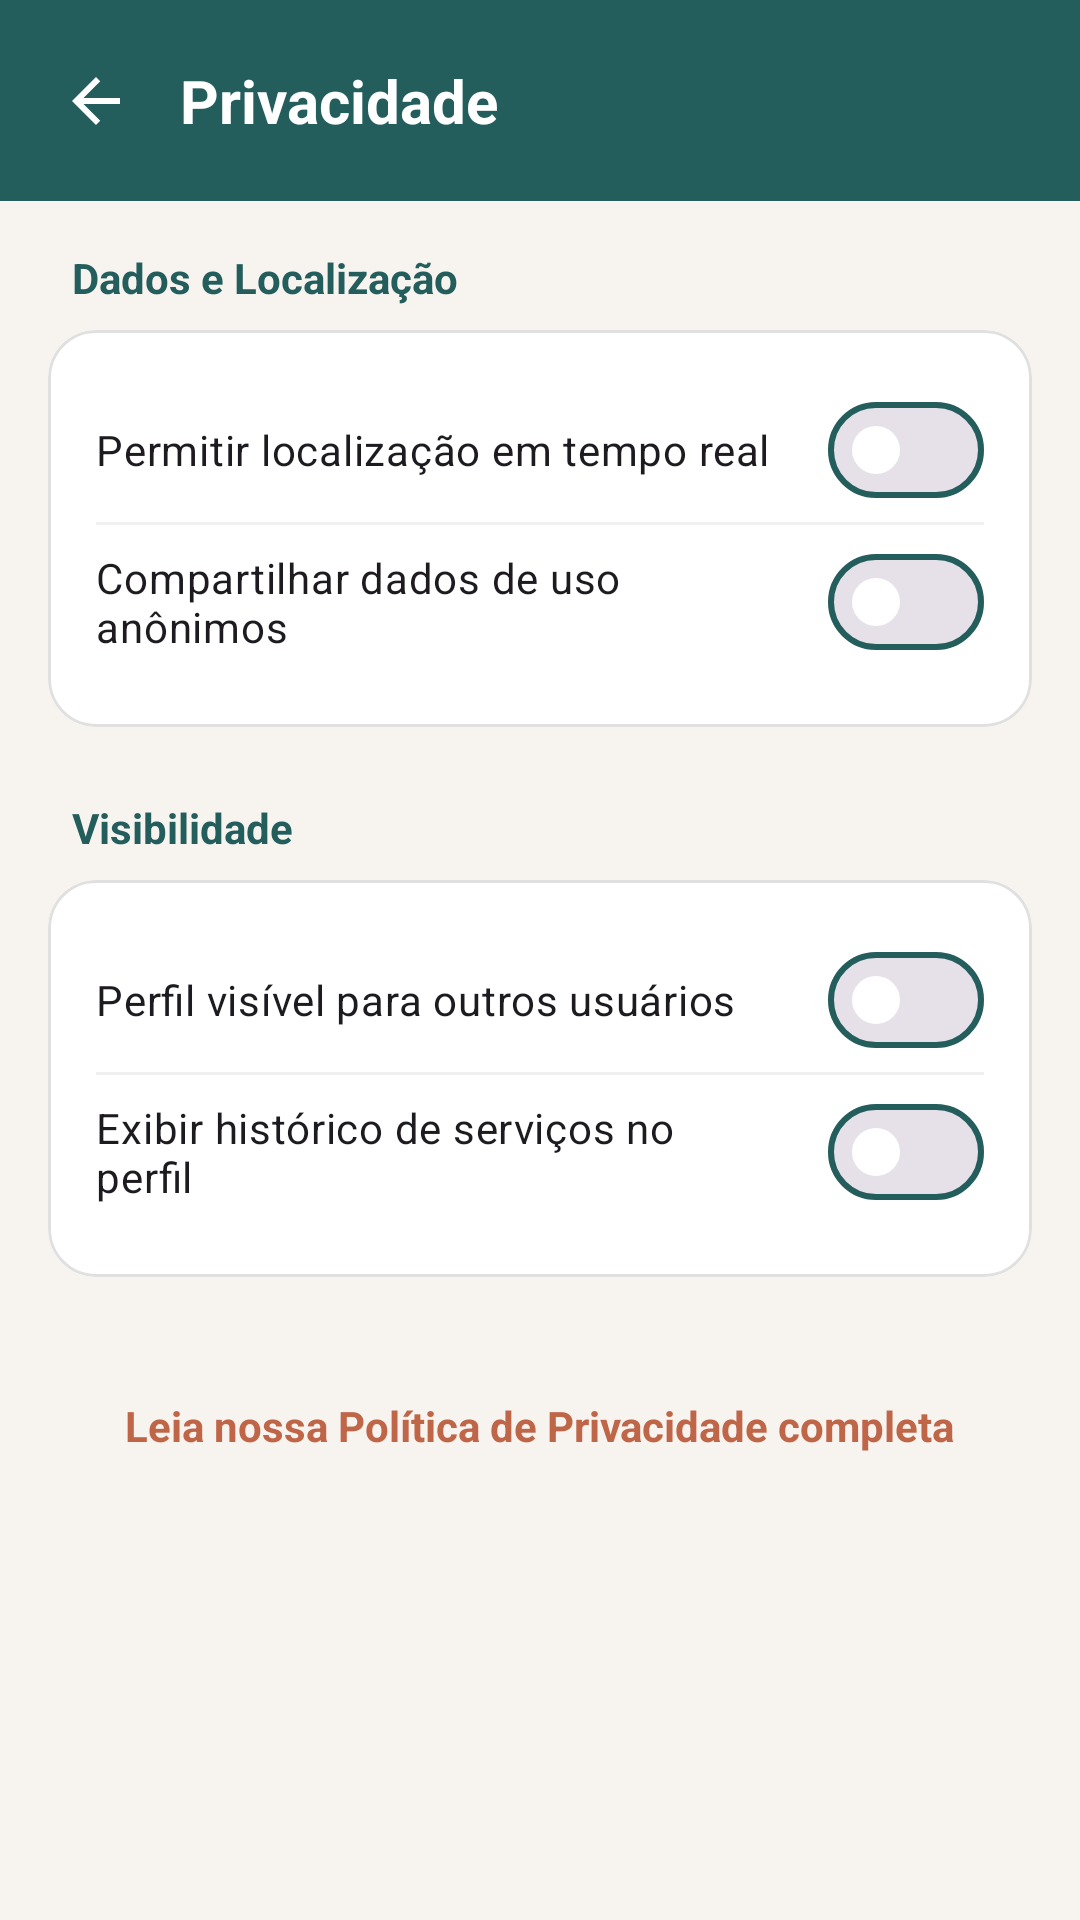

Where icons sit on this 1080 x 1920 app screen, as rect(x1, y1, x2, y2):
Voltar: rect(72, 77, 120, 125)
